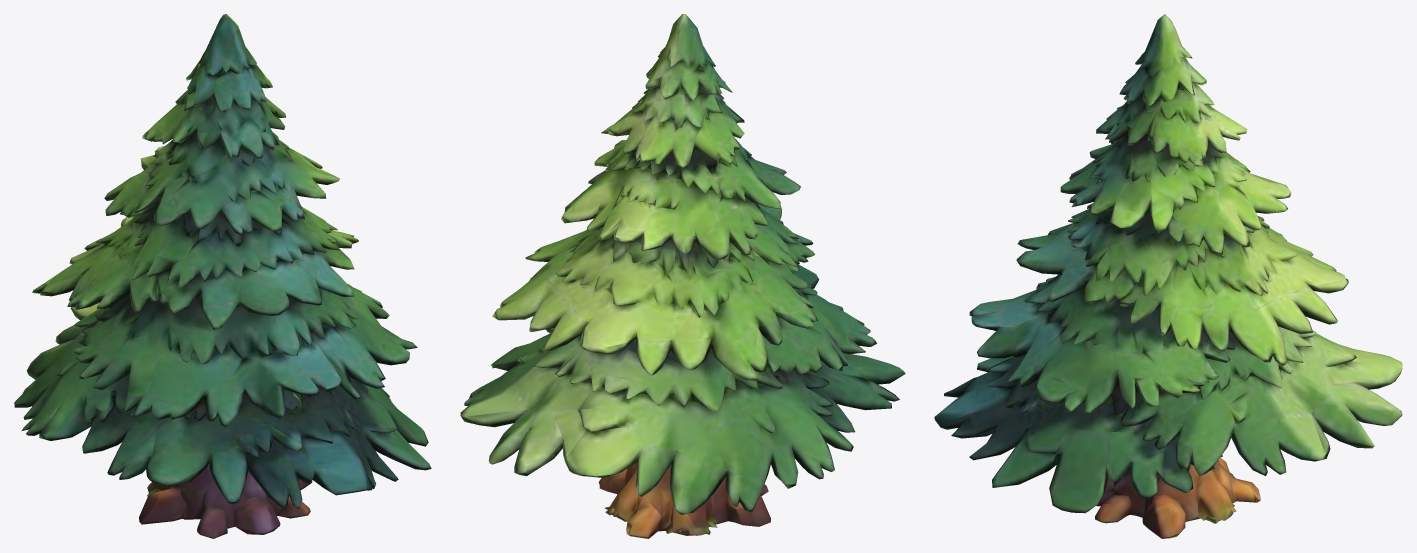
The model's file is pine-low.glb.
The picture shows the model from 3 angles, left to right: view 1: azimuth 30°, elevation 25°; view 2: azimuth 150°, elevation 25°; view 3: azimuth 270°, elevation 25°; orthographic projection.
Visible parts, largest first — view 1: tripo_node_1e5d5114-8726-4cf8-ba44-4395ba477c9d; view 2: tripo_node_1e5d5114-8726-4cf8-ba44-4395ba477c9d; view 3: tripo_node_1e5d5114-8726-4cf8-ba44-4395ba477c9d.
Part boxes in pixels (x1,y1,x2,y2): tripo_node_1e5d5114-8726-4cf8-ba44-4395ba477c9d: (14, 14, 431, 538); tripo_node_1e5d5114-8726-4cf8-ba44-4395ba477c9d: (460, 14, 905, 538); tripo_node_1e5d5114-8726-4cf8-ba44-4395ba477c9d: (934, 14, 1402, 538).
Bounding box in the file's own units: 0.7507 × 0.9974 × 0.8741.
1 material, 1 textured.
